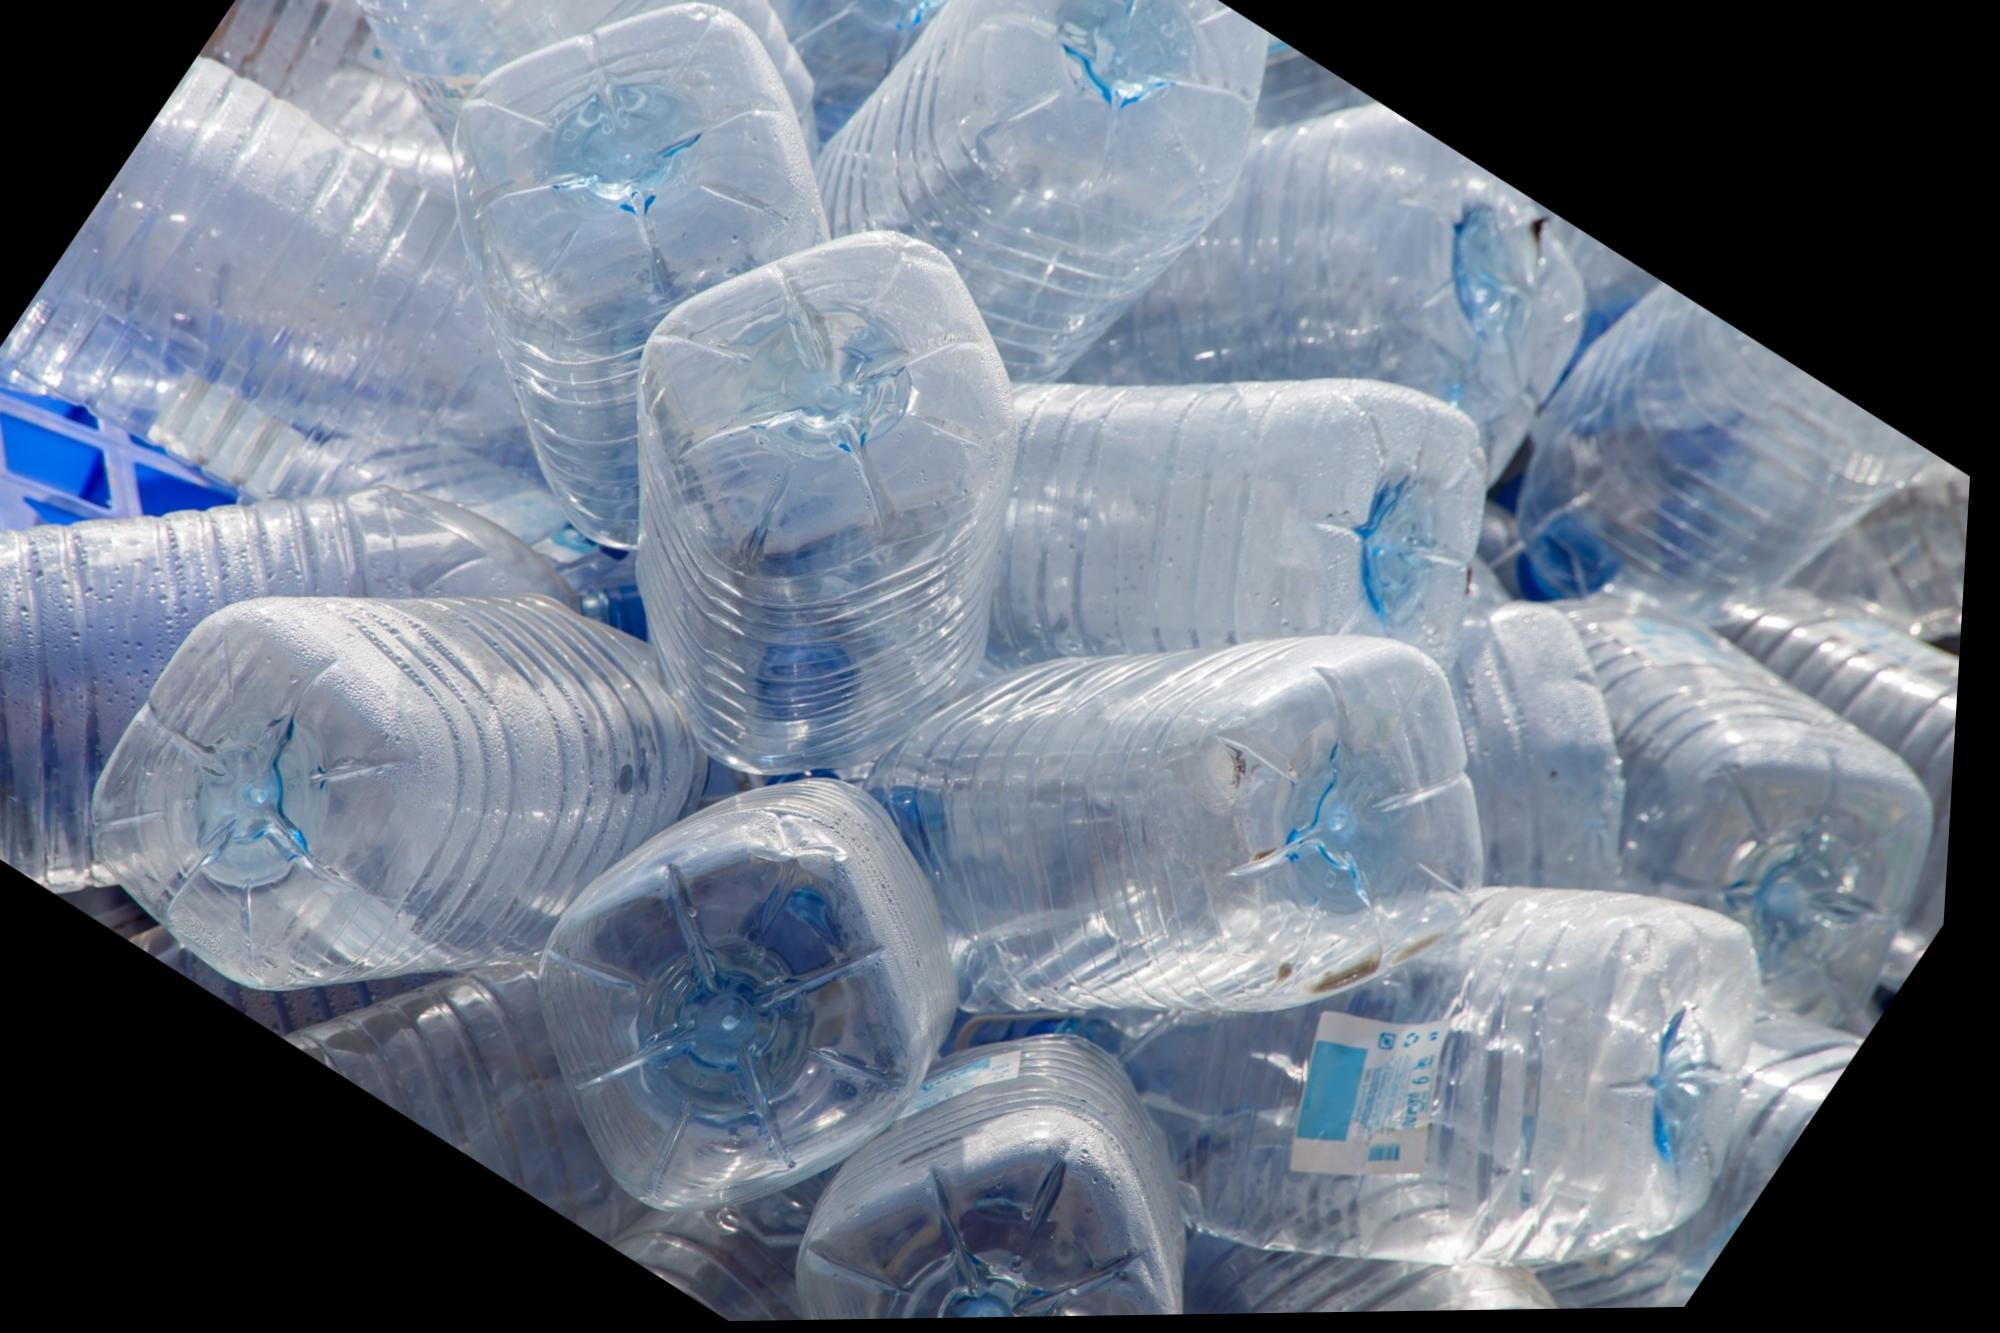plastic: (0, 232, 767, 1137), (810, 440, 1557, 1150), (1017, 751, 1906, 1317), (477, 168, 1151, 833), (400, 674, 1053, 1326), (0, 0, 629, 580), (962, 234, 1587, 800), (1405, 445, 1972, 1062), (281, 0, 895, 528), (650, 0, 1320, 399), (1436, 251, 1978, 736), (1120, 52, 1636, 524), (733, 955, 1317, 1321), (232, 0, 851, 225)
